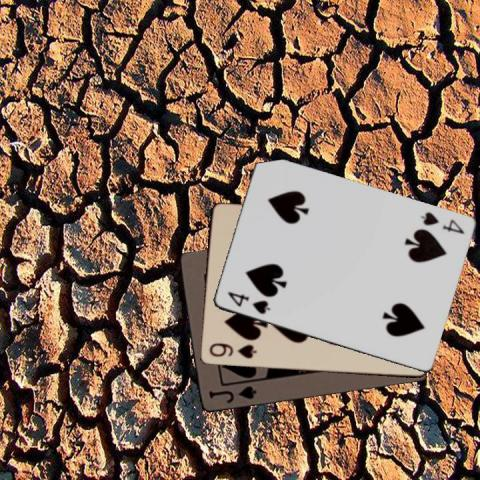4s: (224, 289, 272, 316), (417, 209, 465, 236)
9s: (206, 340, 258, 360)
Js: (206, 383, 258, 405)
